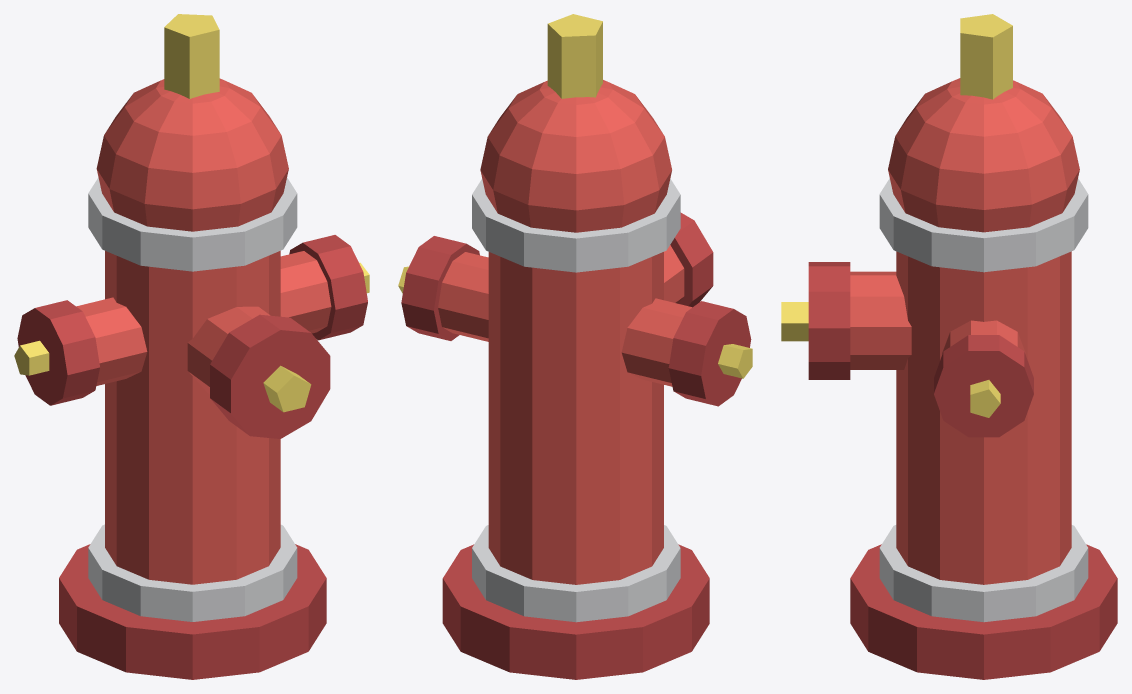
File: th3_hydrant.glb
The picture shows the model from 3 angles, left to right: view 1: azimuth 30°, elevation 25°; view 2: azimuth 150°, elevation 25°; view 3: azimuth 270°, elevation 25°; orthographic projection.
Visible parts, largest first — view 1: hydrant; view 2: hydrant; view 3: hydrant.
Boxes of the visible parts, x1,y1,x2,y2 form: hydrant: (14,14,369,679); hydrant: (398,14,752,679); hydrant: (781,14,1117,679).
Size of the model in its own units: 0.47 by 0.79 by 0.4025.
